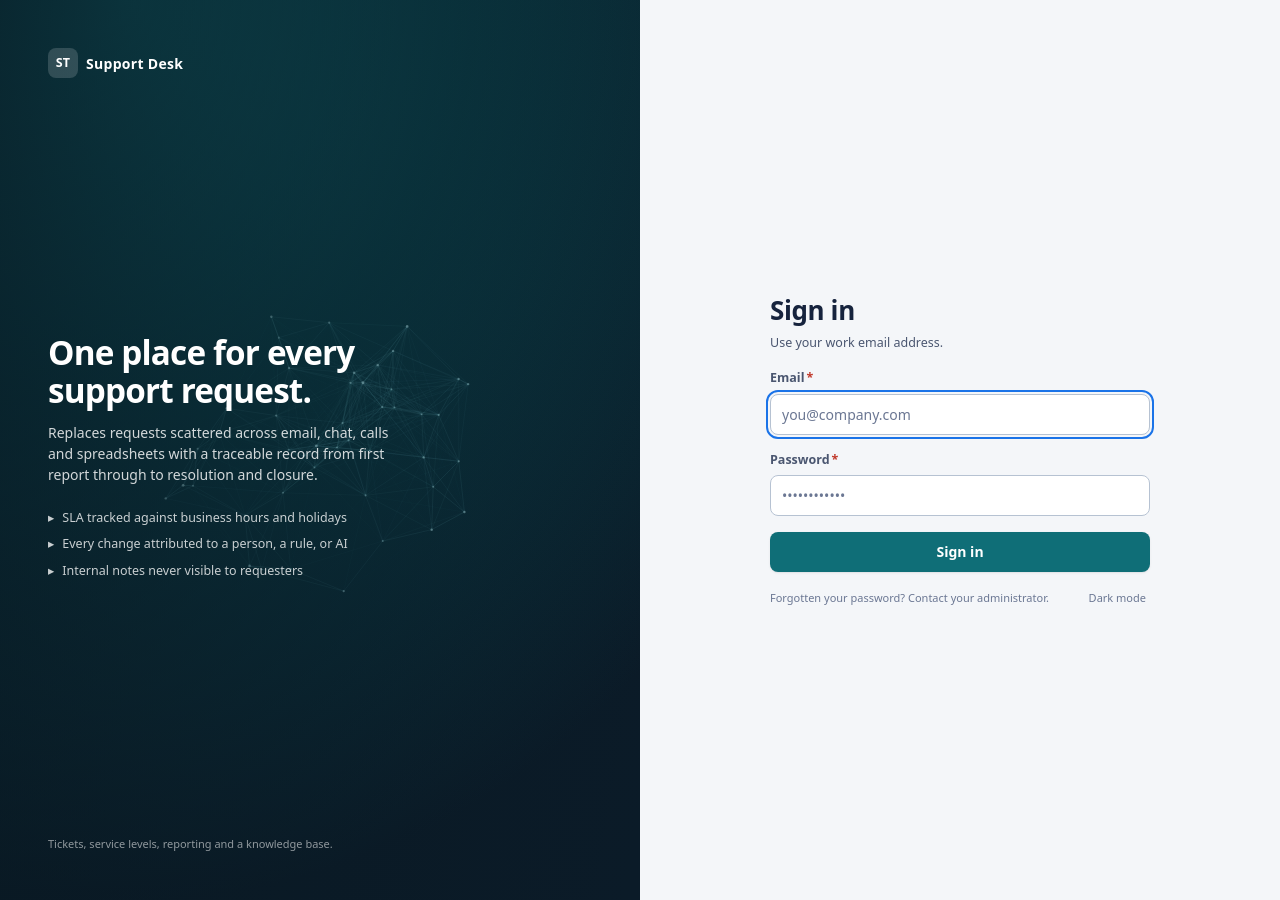
Test: LoginPage › shows one generic message for bad credentials
Type "nobody@itg.test" into the field labelled "Email*". click: (960, 414)
box: [770, 394, 1150, 435]
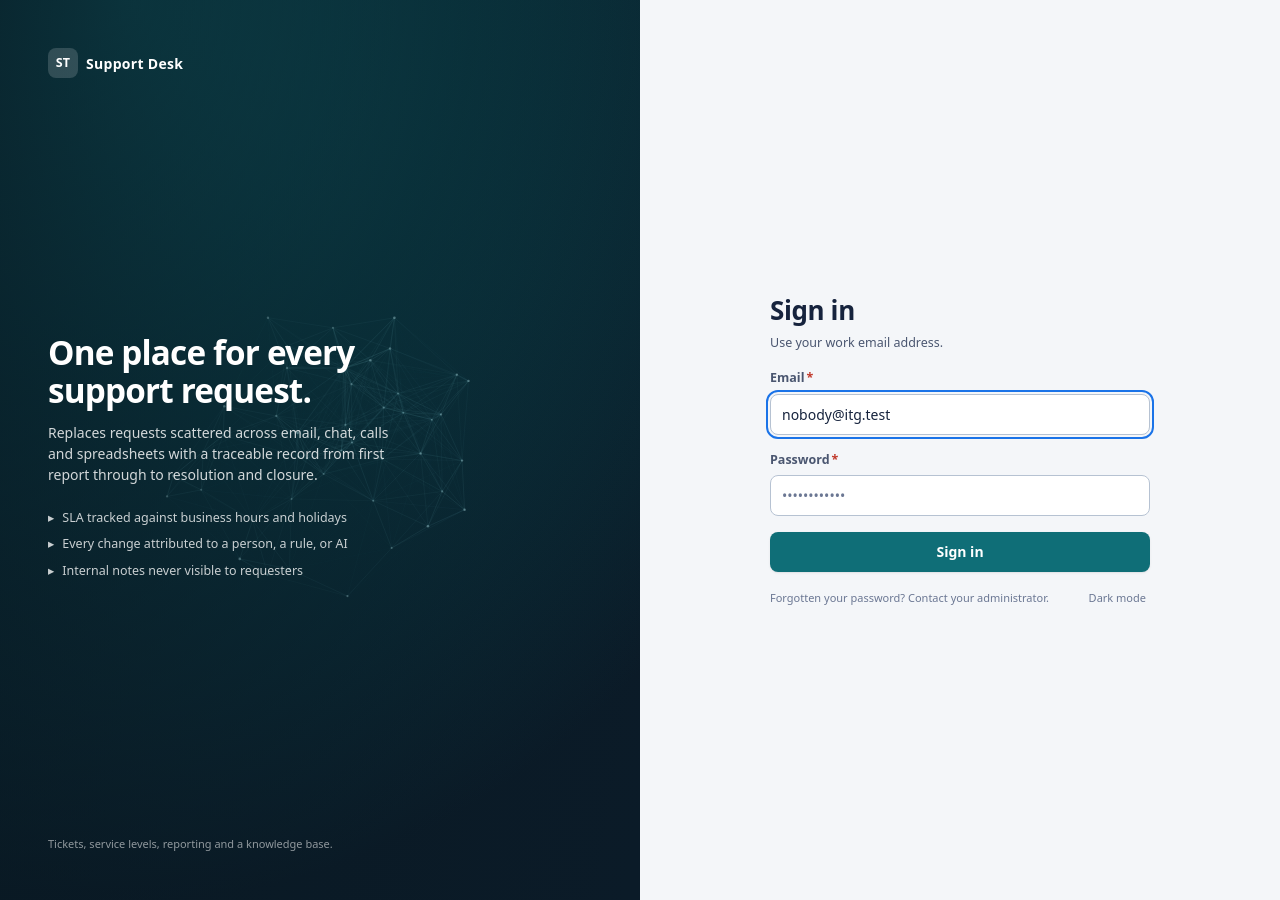
Type "WrongPassword1!" into the password field labelled "Password*". click: (960, 496)
box: [770, 475, 1150, 516]
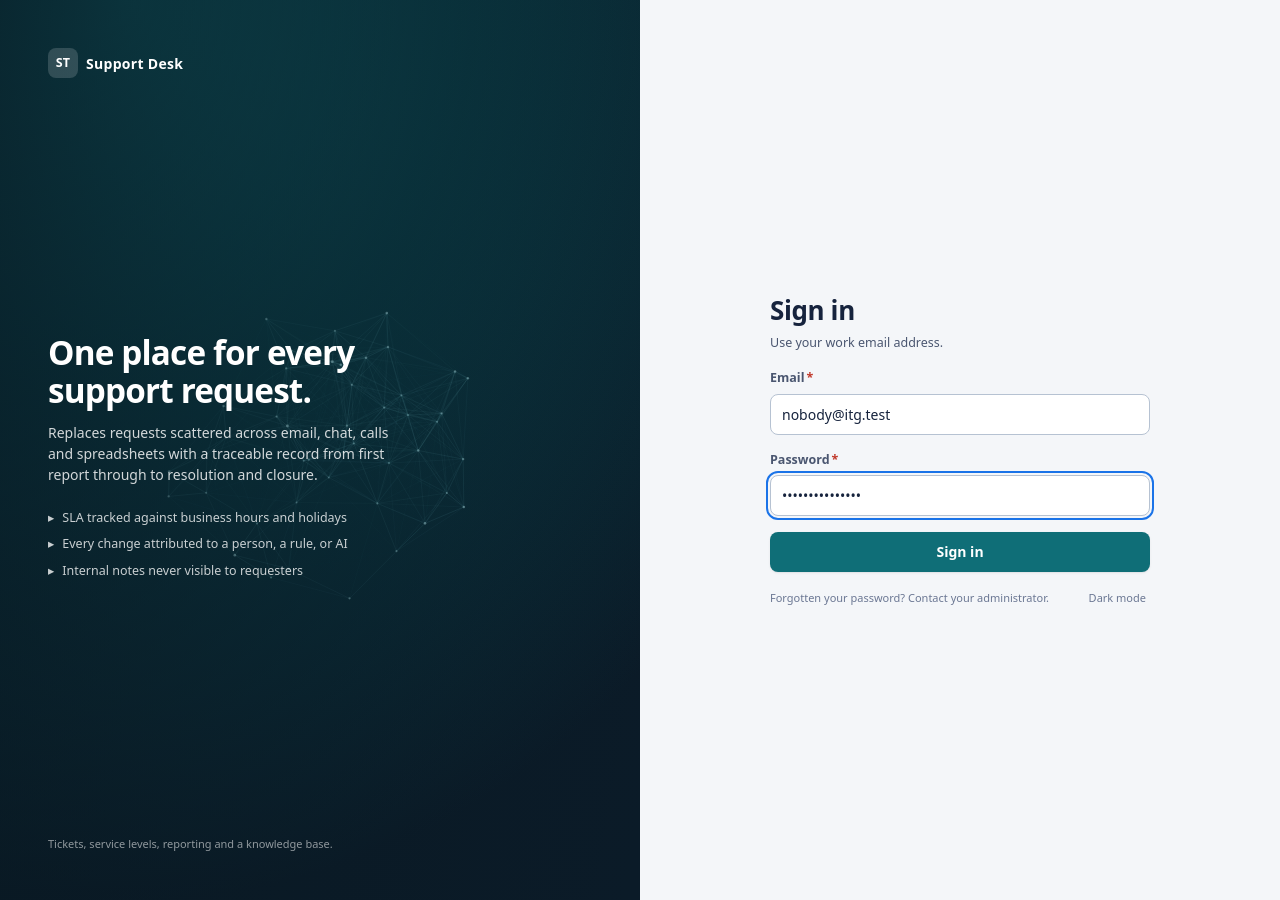
Click the button "Sign in". click: (960, 552)
box: [770, 532, 1150, 572]
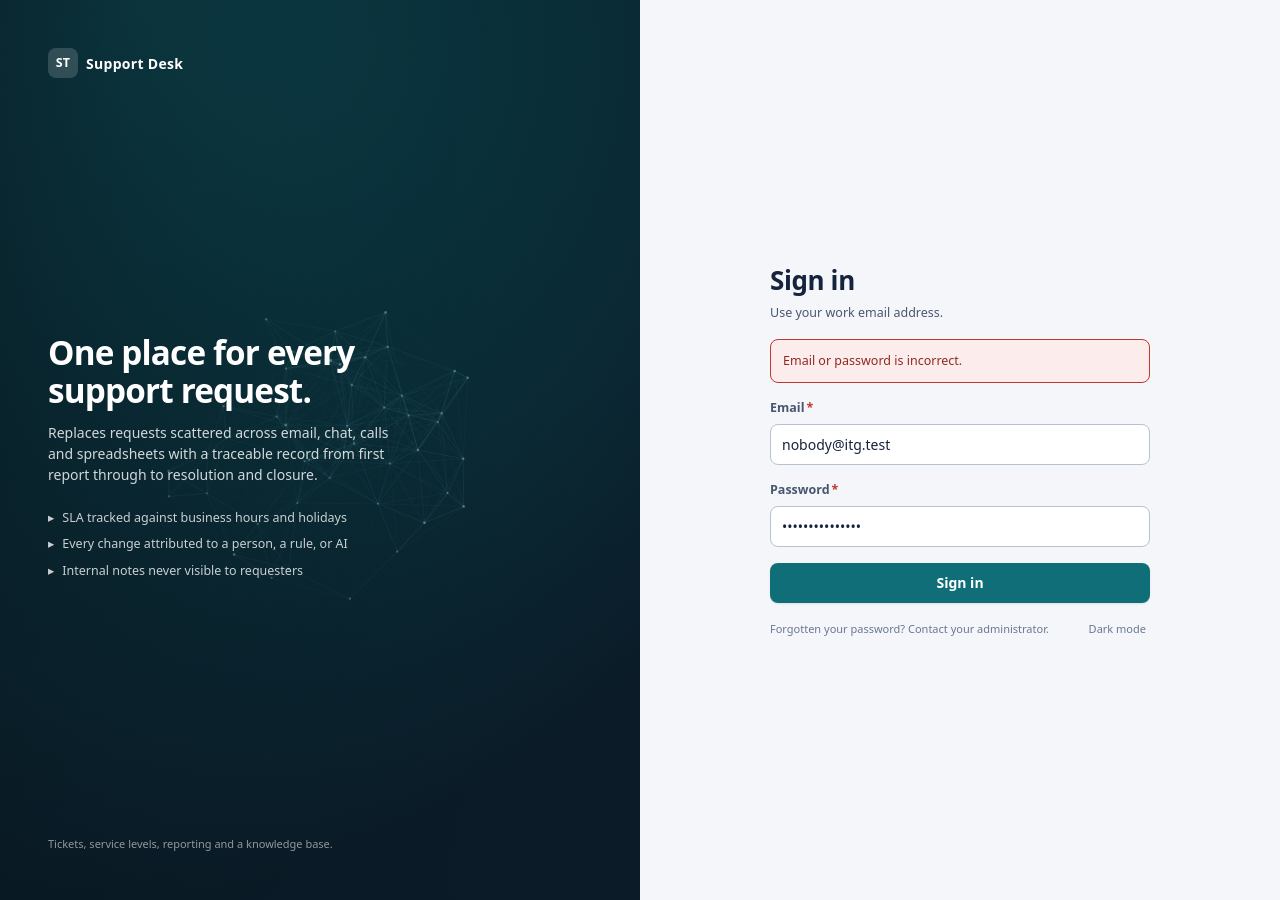
Expected: the message does not show "no account", [770, 338, 1150, 383]
Result: the message shows "Email or password is incorrect" at [783, 352, 962, 368]
